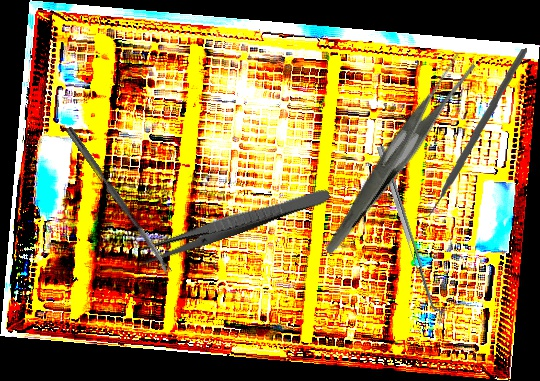Chopper: (406, 48, 533, 220)
Dressing Forceps: (277, 48, 516, 256), (135, 181, 332, 268)
Spatula Surgical: (376, 143, 446, 317)
Surgical Spoon: (64, 126, 173, 276)
